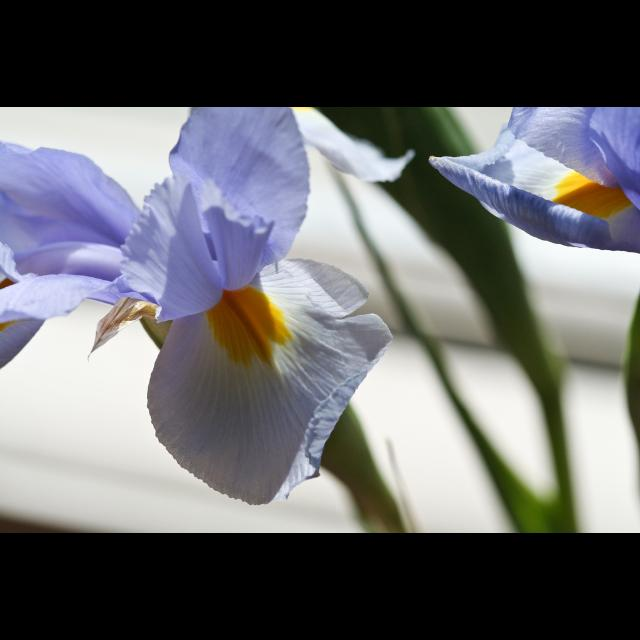Flower: (0, 107, 414, 517), (437, 121, 627, 256)
